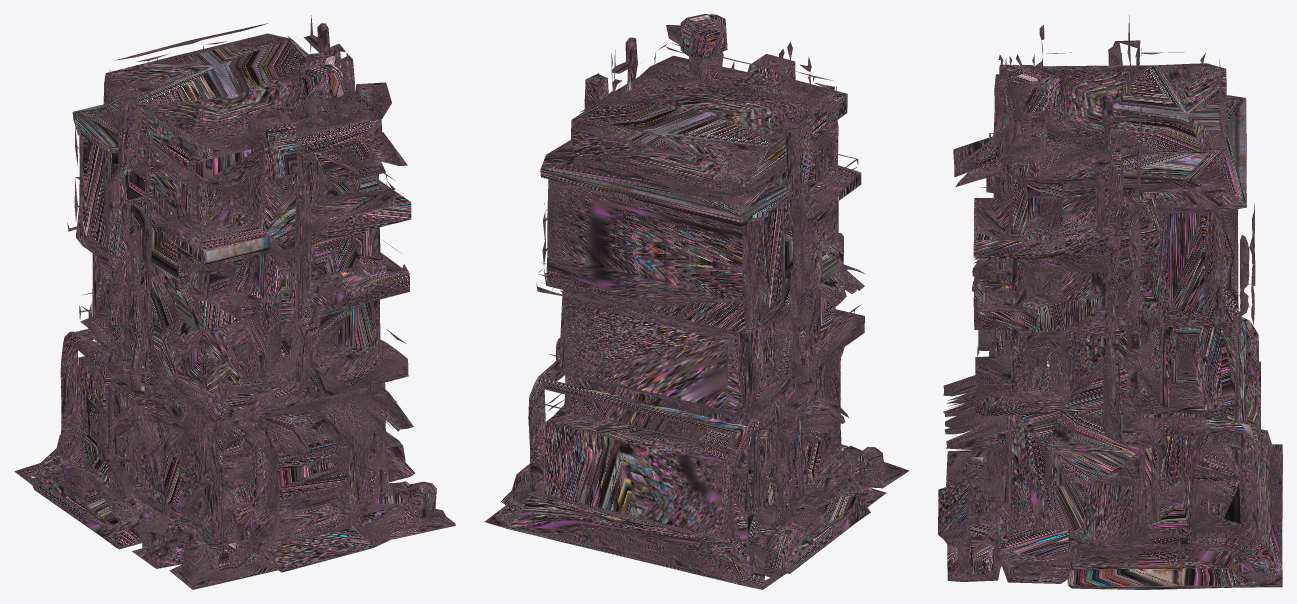
File: cyberpunk_building_2.glb
3 views of the same model, side by side, from view 1: azimuth 30°, elevation 25°; view 2: azimuth 150°, elevation 25°; view 3: azimuth 270°, elevation 25° (orthographic). The views are drawn at different scales.
Parts seen in each view (by area): view 1: world; view 2: world; view 3: world.
Boxes of the visible parts, x1,y1,x2,y2 form: world: (14, 15, 455, 589); world: (484, 14, 909, 589); world: (938, 15, 1282, 589).
Bounding box in the file's own units: 1.36 × 1.99 × 1.34.
1 material, 1 textured.
